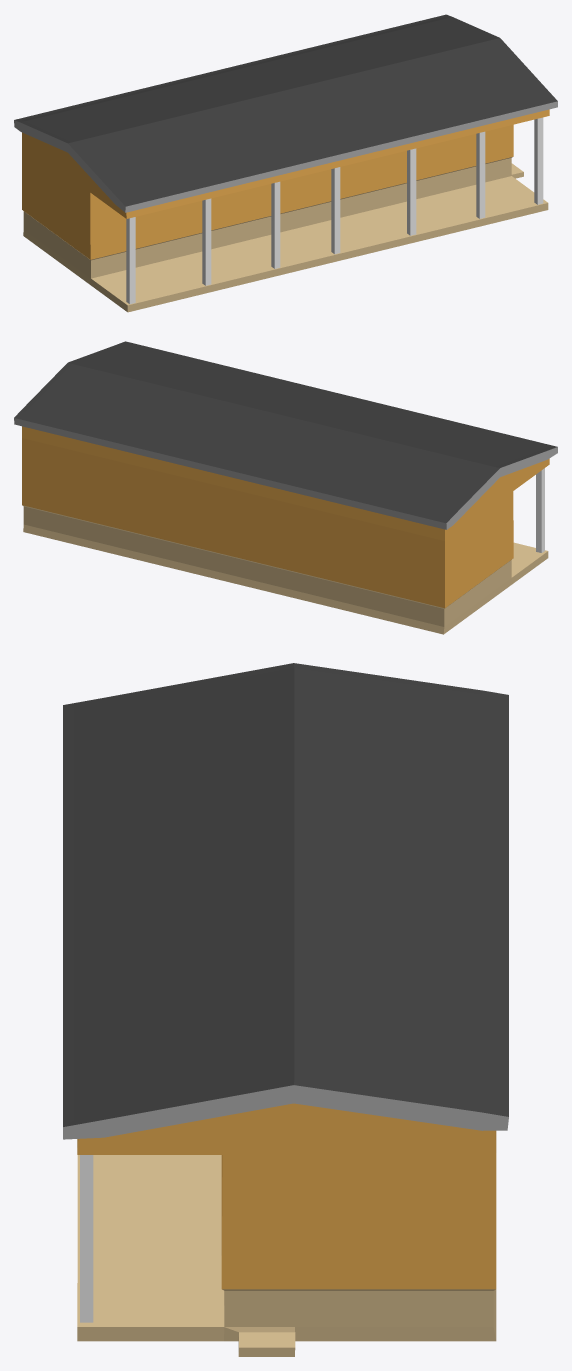
Rendered from harbor_hut1.glb.
The picture shows the model from 3 angles, top to bottom: view 1: azimuth 30°, elevation 25°; view 2: azimuth 150°, elevation 25°; view 3: azimuth 270°, elevation 25°; orthographic projection. The views are drawn at different scales.
Parts seen in each view (by area): view 1: Cube, Cube.003, Cube.001, Cube.006, Cube.002, Cube.004, Cube.005, Cube.007; view 2: Cube, Cube.007; view 3: Cube, Cube.001.
Part boxes in pixels (x1,y1,x2,y2): Cube: [14, 14, 557, 312]; Cube.003: [407, 148, 416, 235]; Cube.001: [534, 117, 543, 204]; Cube.006: [202, 198, 211, 285]; Cube.002: [476, 131, 485, 218]; Cube.004: [331, 167, 340, 254]; Cube.005: [271, 181, 280, 268]; Cube.007: [126, 217, 135, 304]; Cube: [14, 341, 557, 634]; Cube.007: [536, 468, 544, 552]; Cube: [63, 663, 508, 1356]; Cube.001: [80, 1155, 93, 1322].
Bounding box in the file's own units: 14.64 × 4.15 × 6.39.
1 material, 1 textured.
